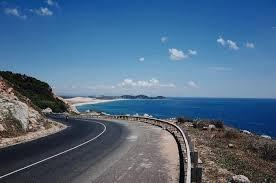field: (178, 121, 275, 182)
road: (0, 121, 178, 182), (0, 119, 102, 175)
